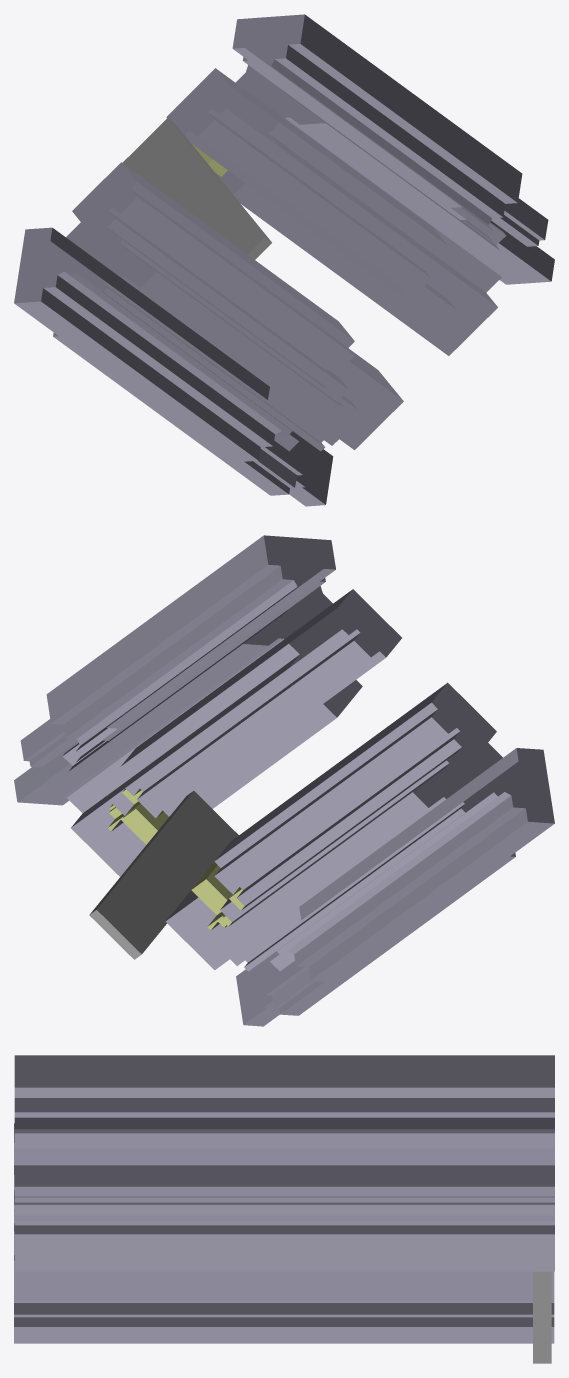
The picture shows the model from 3 angles, top to bottom: view 1: azimuth 30°, elevation 25°; view 2: azimuth 150°, elevation 25°; view 3: azimuth 270°, elevation 25°; orthographic projection. The views are drawn at different scales.
Parts seen in each view (by area): view 1: 0_3_2_2_0_3_3_0; view 2: 0_3_2_2_0_3_3_0; view 3: 0_3_2_2_0_3_3_0.
Boxes of the visible parts, box(x1,y1,x2,y2) form: 0_3_2_2_0_3_3_0: box(14, 14, 554, 506); 0_3_2_2_0_3_3_0: box(14, 535, 554, 1026); 0_3_2_2_0_3_3_0: box(14, 1055, 554, 1363).
Size of the model in its own units: 74.77 by 65.09 by 87.11.
